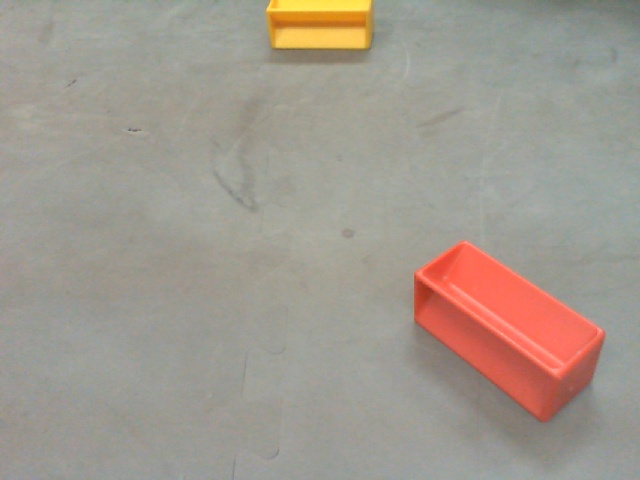RedSample: (410, 233, 604, 426)
YellowSample: (264, 1, 374, 56)
